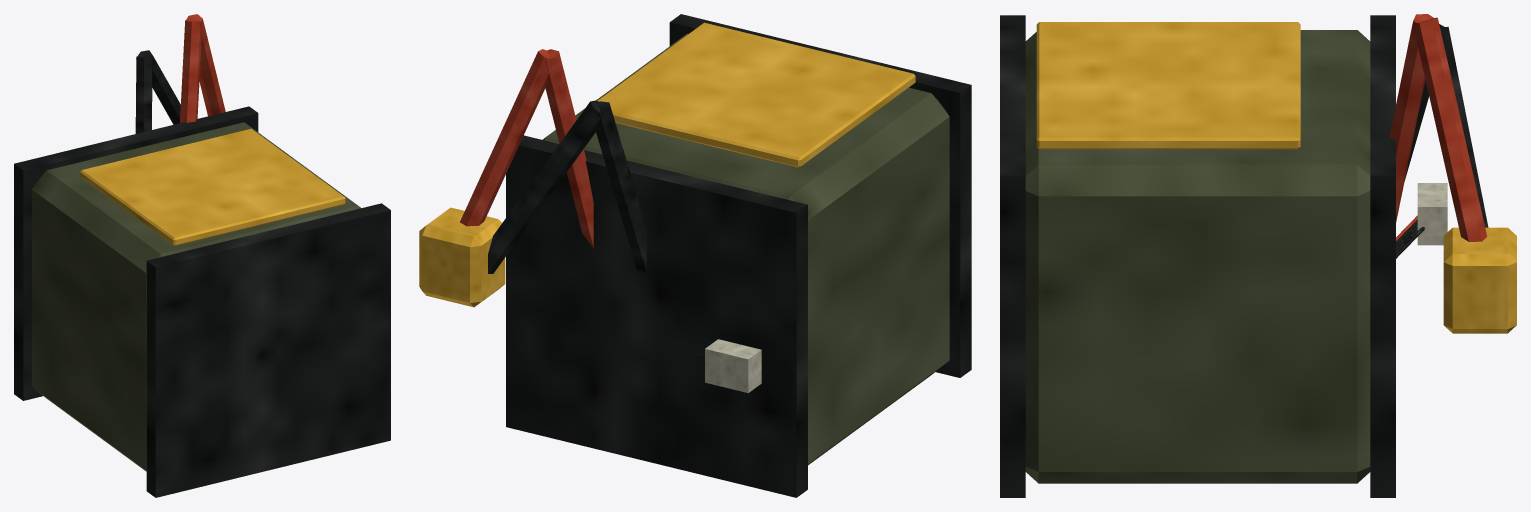
Rendered from DR_Battery.fbx.
The picture shows the model from 3 angles, left to right: view 1: azimuth 30°, elevation 25°; view 2: azimuth 150°, elevation 25°; view 3: azimuth 270°, elevation 25°; orthographic projection. The views are drawn at different scales.
Parts seen in each view (by area): view 1: BatteryEndCap.Front, BatteryShrinkWrap, BatteryLabel, BatteryEndCap.Rear, BatteryLead.Red.0, BatteryLead.Red.1, BatteryLead.Black.0, BatteryLead.Black.1; view 2: BatteryEndCap.Rear, BatteryShrinkWrap, BatteryLabel, BatteryEndCap.Front, BatteryXT60Connector, BatteryLead.Black.1, BatteryLead.Red.1, BatteryLead.Black.0, BatteryLead.Red.0, BatteryBalanceConnector; view 3: BatteryShrinkWrap, BatteryLabel, BatteryEndCap.Front, BatteryEndCap.Rear, BatteryXT60Connector, BatteryLead.Red.1, BatteryLead.Red.0, BatteryBalanceConnector, BatteryLead.Black.1.
Part boxes in pixels (left/top/right/bottom): BatteryEndCap.Front: left=146, top=203, right=390, bottom=497; BatteryShrinkWrap: left=32, top=122, right=360, bottom=471; BatteryLabel: left=80, top=128, right=345, bottom=245; BatteryEndCap.Rear: left=14, top=106, right=258, bottom=400; BatteryLead.Red.0: left=180, top=19, right=201, bottom=122; BatteryLead.Red.1: left=186, top=14, right=225, bottom=116; BatteryLead.Black.0: left=135, top=56, right=152, bottom=133; BatteryLead.Black.1: left=136, top=50, right=180, bottom=124; BatteryEndCap.Rear: left=506, top=135, right=807, bottom=497; BatteryShrinkWrap: left=542, top=33, right=949, bottom=465; BatteryLabel: left=597, top=22, right=915, bottom=167; BatteryEndCap.Front: left=669, top=14, right=971, bottom=377; BatteryXT60Connector: left=419, top=207, right=505, bottom=307; BatteryLead.Black.1: left=488, top=100, right=603, bottom=273; BatteryLead.Red.1: left=460, top=49, right=554, bottom=226; BatteryLead.Black.0: left=595, top=101, right=646, bottom=272; BatteryLead.Red.0: left=545, top=49, right=593, bottom=247; BatteryBalanceConnector: left=705, top=339, right=761, bottom=393; BatteryShrinkWrap: left=1025, top=30, right=1370, bottom=483; BatteryLabel: left=1036, top=22, right=1300, bottom=149; BatteryEndCap.Front: left=1000, top=15, right=1025, bottom=497; BatteryEndCap.Rear: left=1370, top=15, right=1395, bottom=497; BatteryXT60Connector: left=1443, top=227, right=1516, bottom=333; BatteryLead.Red.1: left=1416, top=17, right=1486, bottom=241; BatteryLead.Red.0: left=1389, top=14, right=1433, bottom=222; BatteryBalanceConnector: left=1417, top=183, right=1447, bottom=245; BatteryLead.Black.1: left=1440, top=26, right=1488, bottom=227.
Size of the model in its own units: 1.17 by 1.38 by 1.41.
Materials: 1 (1 with a texture image).
